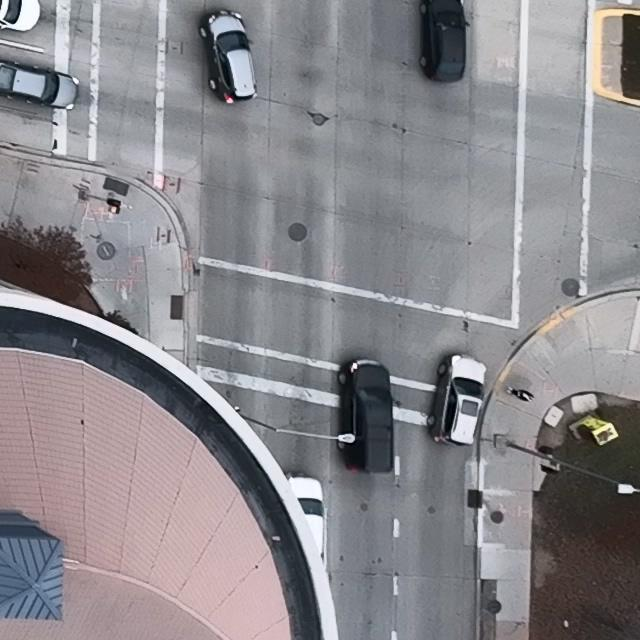car: (338, 359, 402, 473), (428, 355, 487, 448), (201, 8, 258, 103), (418, 0, 471, 82), (282, 473, 328, 567), (0, 58, 80, 110), (0, 0, 41, 32)
